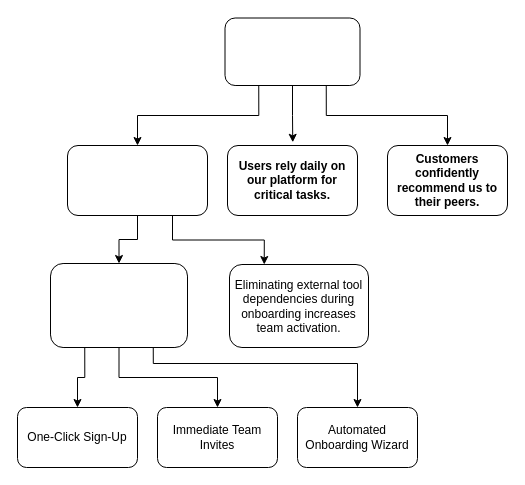
This 525x485 diagram has some shape labels left out. Each missing label, with the centre of its shape:
"Become the most trusted platform for seamless remote team collaboration" goes at (x=292, y=51).
"Reducing onboarding time to under 5 minutes increases immediate collaboration" goes at (x=119, y=305).
"Teams collaborate effortlessly from day one" goes at (x=137, y=180).
